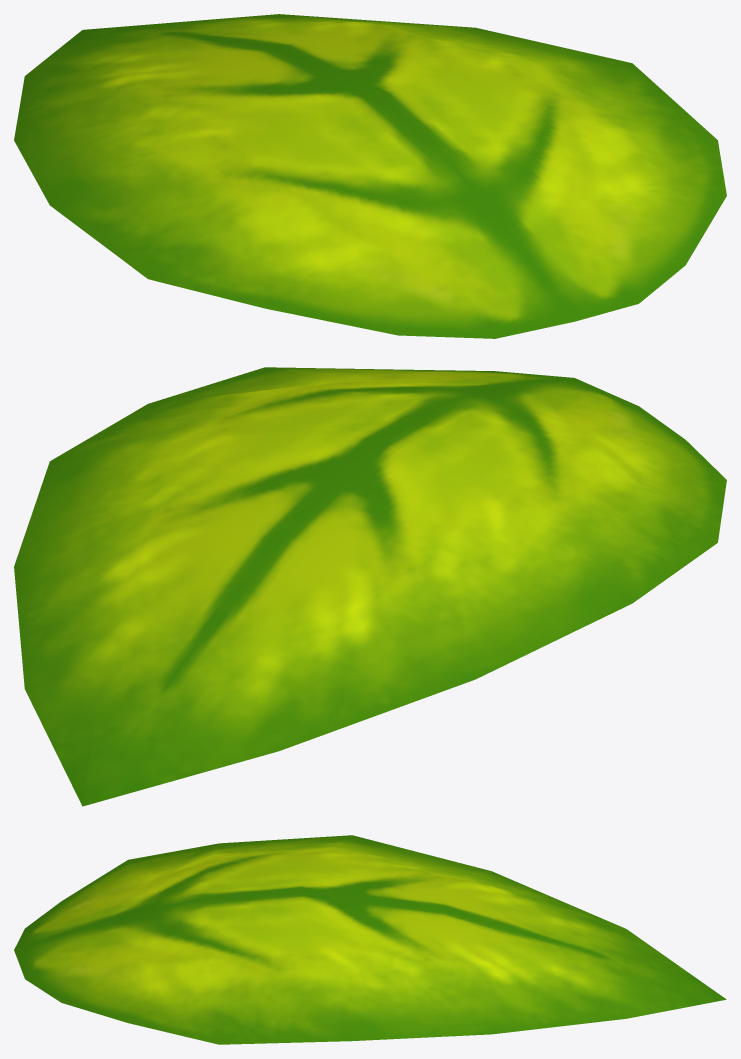
Rendered from leaf-green.fbx.
3 renders of one model, top to bottom at view 1: azimuth 30°, elevation 25°; view 2: azimuth 150°, elevation 25°; view 3: azimuth 270°, elevation 25°, orthographic. The views are drawn at different scales.
Parts seen in each view (by area): view 1: leaf-green; view 2: leaf-green; view 3: leaf-green.
Boxes of the visible parts, x1,y1,x2,y2 form: leaf-green: (14,14,726,338); leaf-green: (14,367,726,806); leaf-green: (14,835,726,1044).
Bounding box in the file's own units: 185 × 45.75 × 271.
